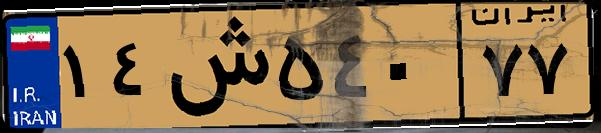0: (385, 28, 445, 110)
1: (57, 26, 110, 100)
4: (330, 28, 385, 110), (110, 28, 158, 98)
5: (270, 28, 330, 110)
7: (475, 38, 525, 113), (525, 38, 570, 115)
ش: (158, 12, 270, 120)
